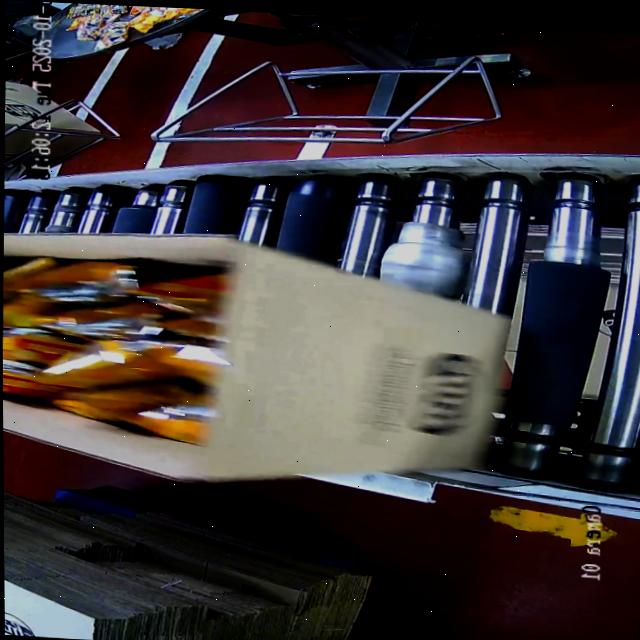FRENCH_CHEESE: (2, 245, 225, 450)
